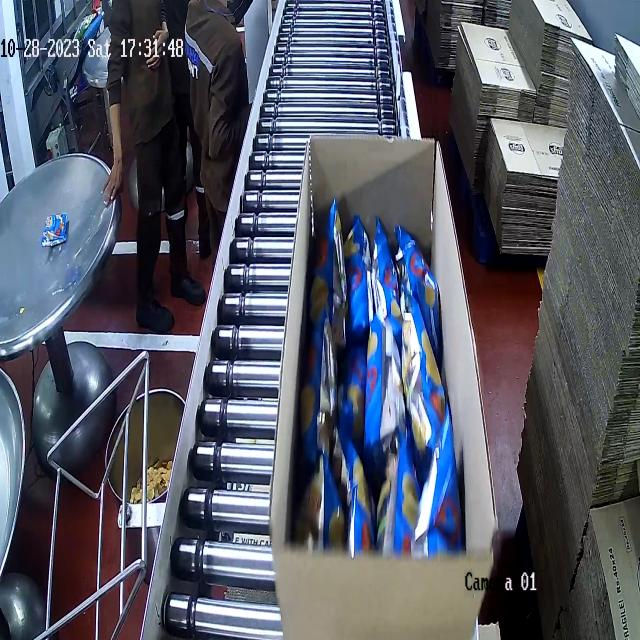PAPRIKA: (307, 205, 465, 566)
